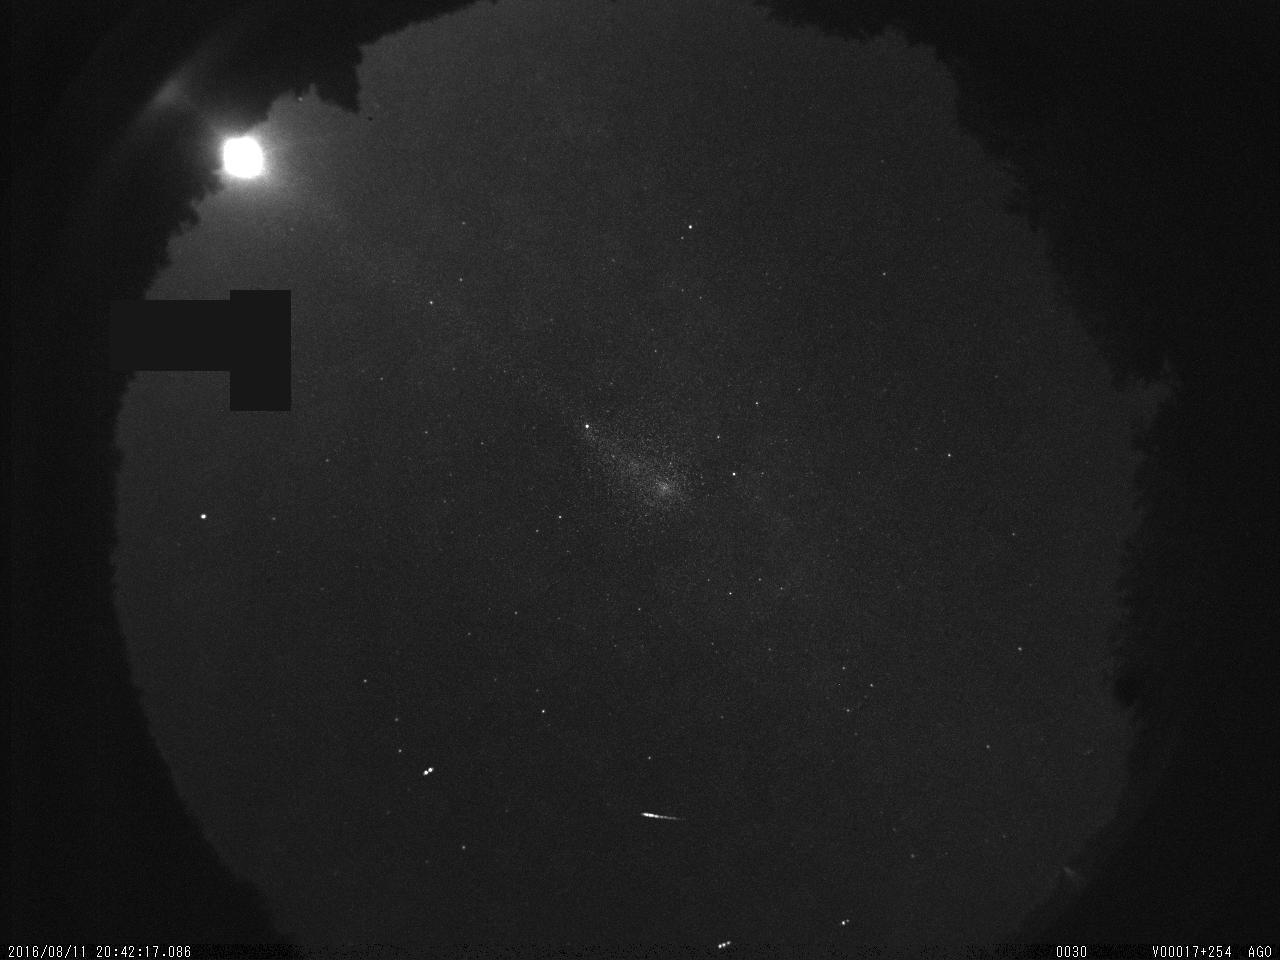meteor: (633, 803, 693, 827)
satelite: (710, 933, 736, 957), (830, 911, 858, 931)
